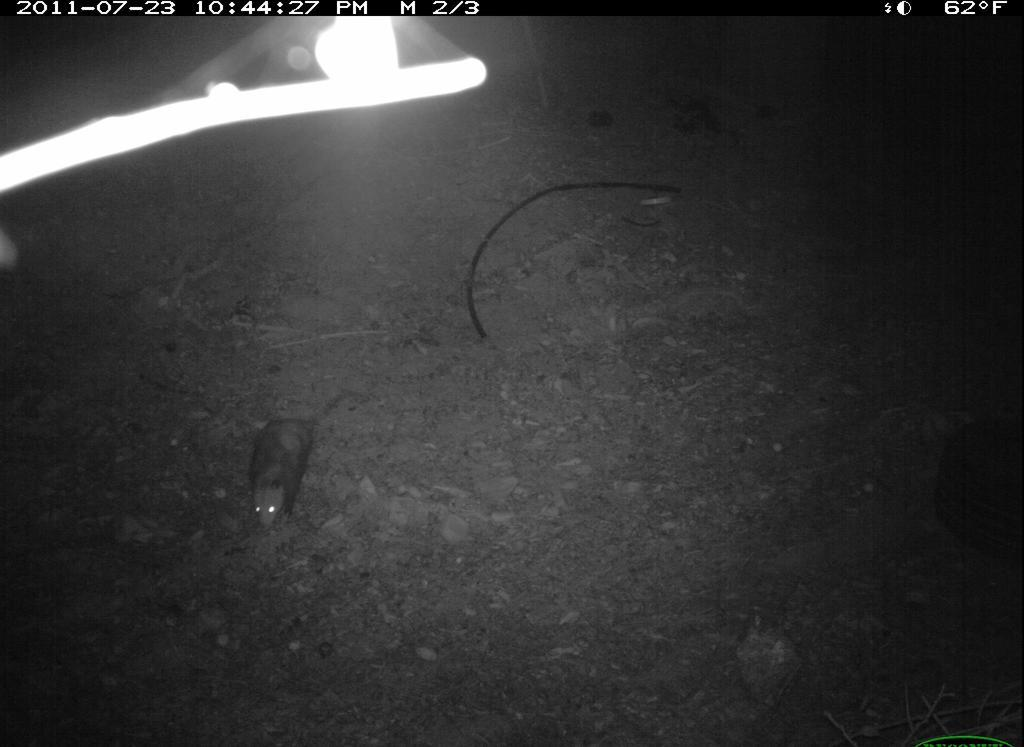opossum: (242, 400, 324, 536)
